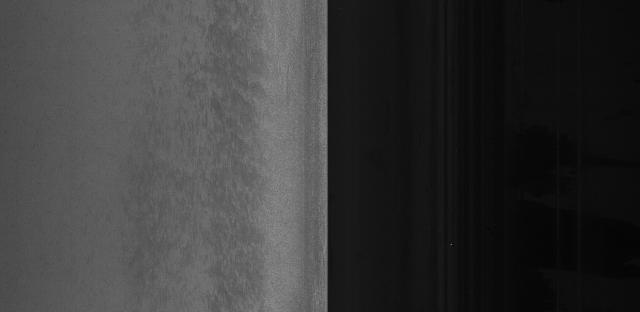silk_spot: (195, 52, 278, 228)
